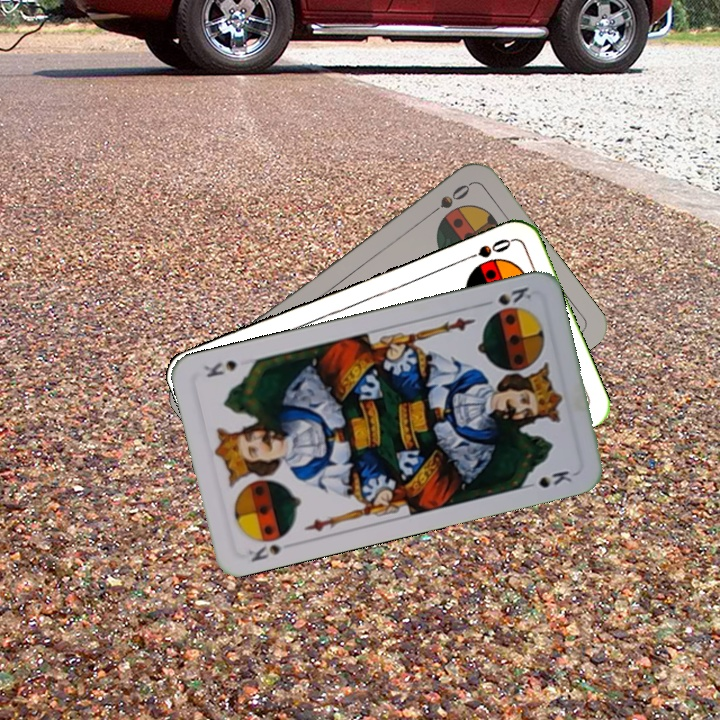SK: (477, 283, 534, 309), (244, 540, 285, 565)
SO: (422, 179, 473, 221), (458, 234, 514, 265)
